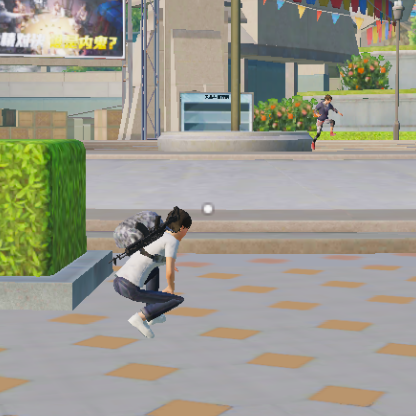ren: (117, 206, 195, 337), (311, 90, 342, 151)
tou: (166, 208, 193, 241), (323, 93, 333, 102)
